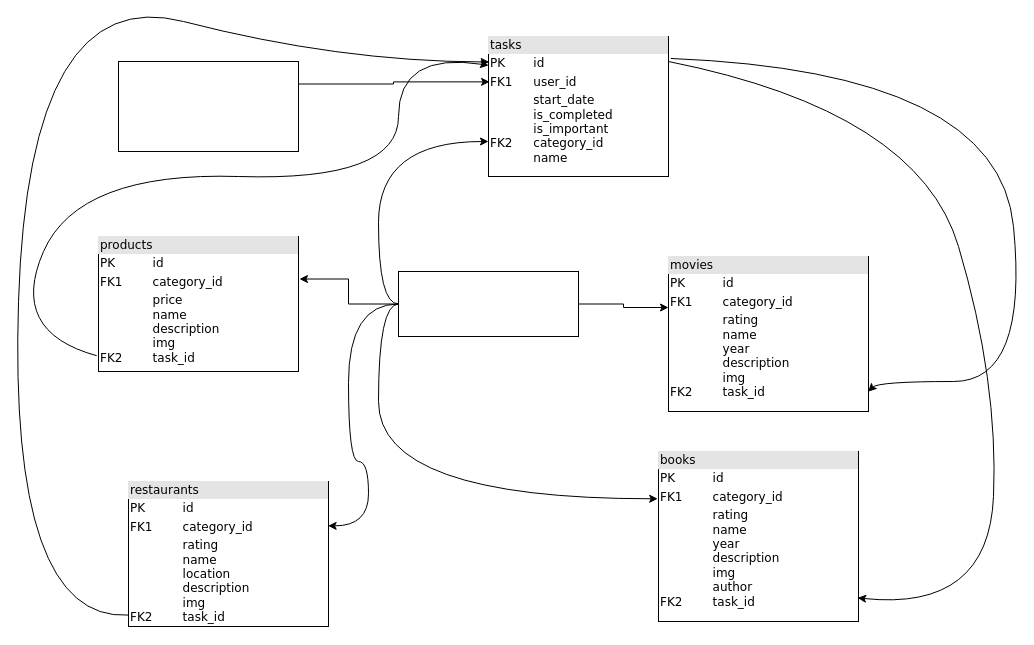
Image size: 1034x645. Some labels were removed from this diagram. The shapes that lost their labels are listed below. From the top down, each one's centre as x and y in pixels, then its label:
At (208,106): "users PK id name password location".
At (488,303): "categories PK id name".
